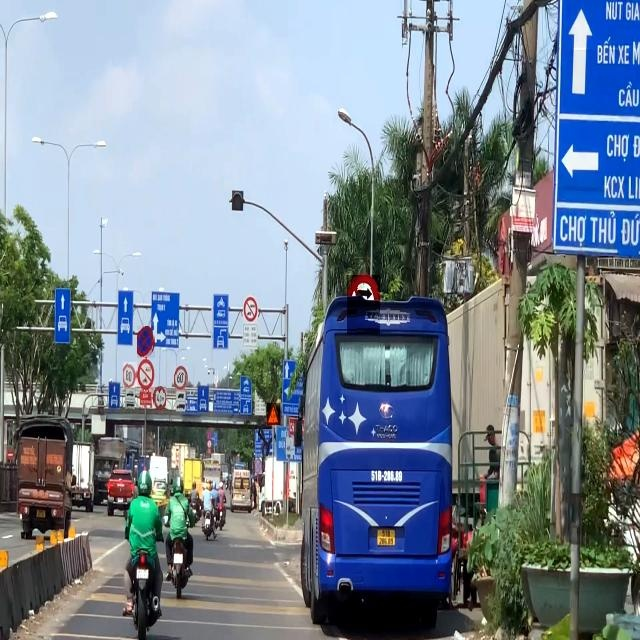bien_chi_dan: (347, 275, 380, 334), (137, 326, 155, 358), (124, 362, 138, 388), (174, 366, 188, 390), (153, 386, 166, 411), (267, 403, 280, 425), (255, 458, 262, 474), (207, 430, 212, 439)
